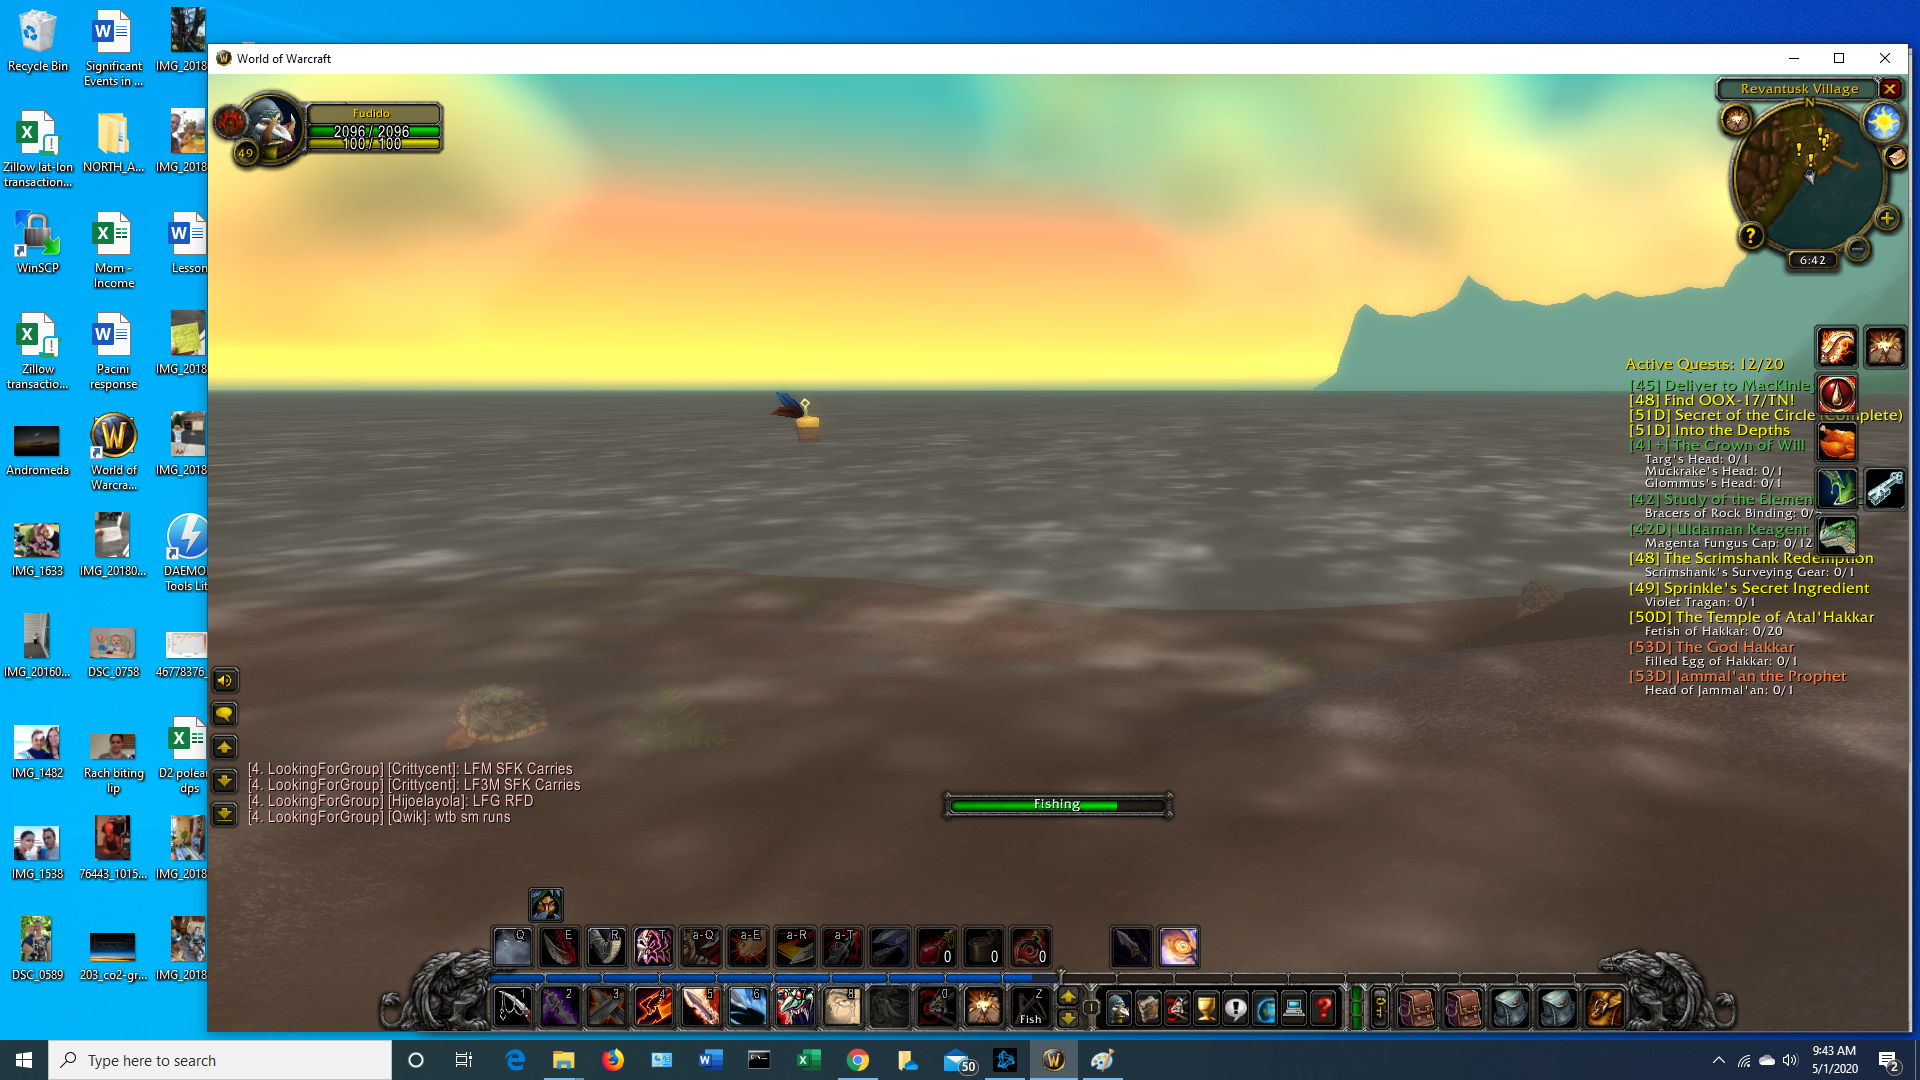bobble: (767, 382, 833, 448)
